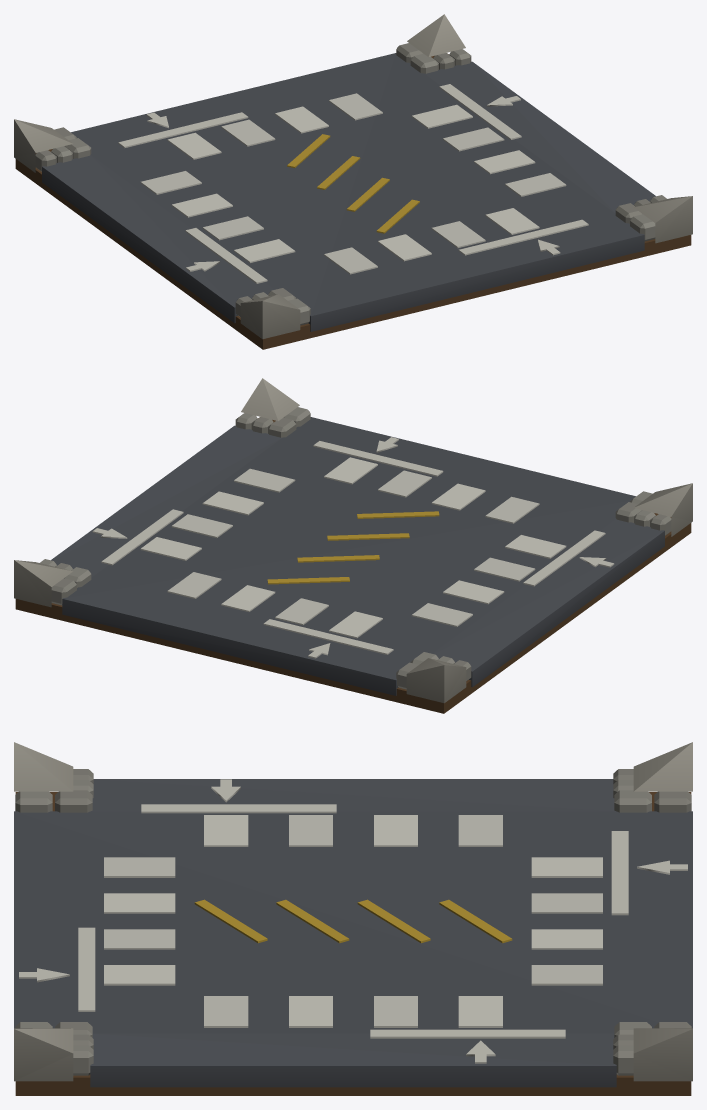
The model's file is road-avenue-4way-01.glb.
The picture shows the model from 3 angles, top to bottom: view 1: azimuth 30°, elevation 25°; view 2: azimuth 150°, elevation 25°; view 3: azimuth 270°, elevation 25°; orthographic projection. The views are drawn at different scales.
Parts seen in each view (by area): view 1: road_avenue_4way_01; view 2: road_avenue_4way_01; view 3: road_avenue_4way_01.
Part boxes in pixels (x1,y1,x2,y2): road_avenue_4way_01: [14, 14, 692, 349]; road_avenue_4way_01: [14, 378, 692, 713]; road_avenue_4way_01: [14, 742, 692, 1095].
Bounding box in the file's own units: 4 × 0.44 × 4.
